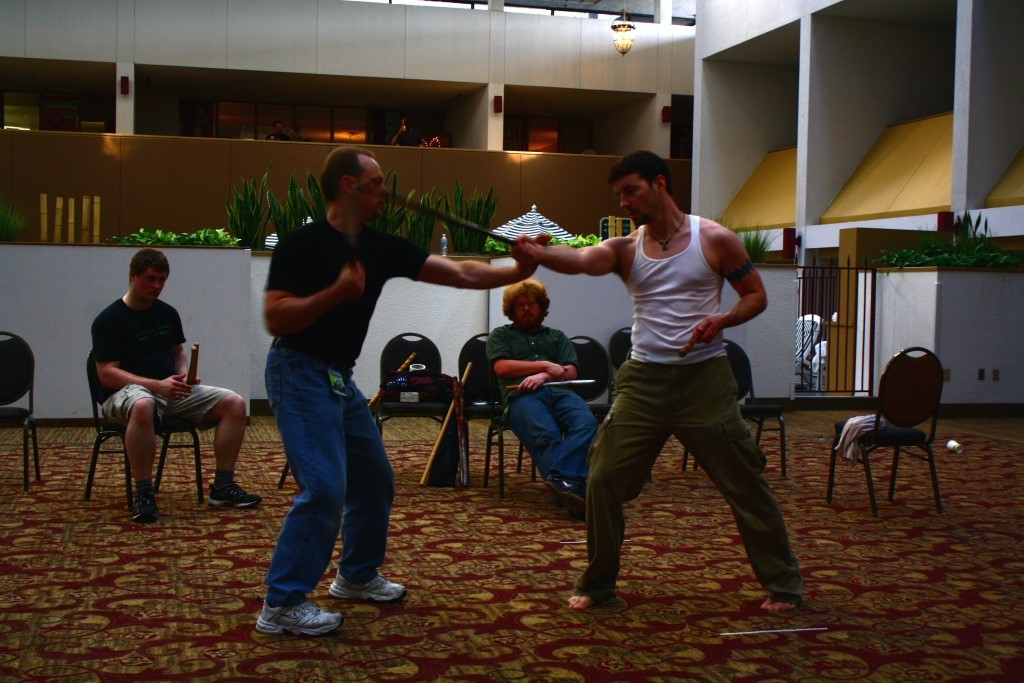baston_e: (371, 186, 517, 250), (419, 366, 472, 481), (369, 353, 412, 407), (510, 378, 591, 392), (186, 350, 197, 383), (190, 345, 199, 383)
baston_v: (673, 334, 698, 364), (416, 478, 427, 488), (465, 360, 476, 368), (588, 376, 599, 384), (411, 349, 420, 357), (504, 382, 511, 392), (189, 345, 196, 352), (193, 340, 199, 346)
